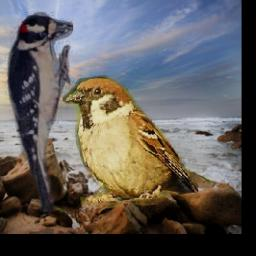Sparrow: (64, 76, 199, 209)
Woodpecker: (6, 10, 74, 213)
